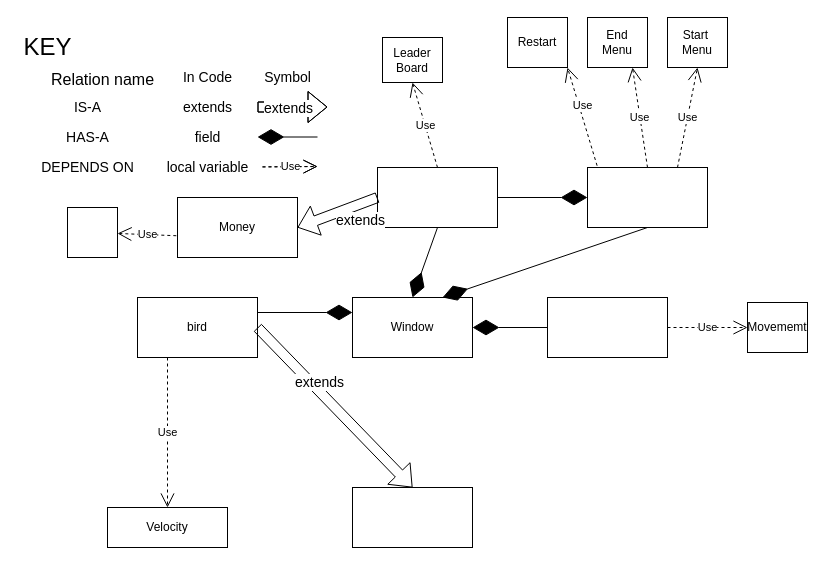
Some shapes in this 825 by 565 pixel diagram are drawn without their labels. Here are the shapes that lost their labels. From the top down, the centre of each, then its label:
the point at 437,197: Score
the point at 647,197: Menu
the point at 92,232: Coin
the point at 607,327: Pipe
the point at 412,517: Character
